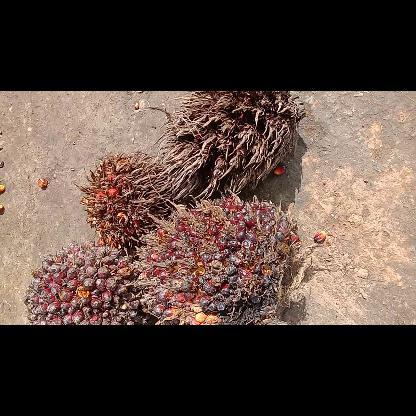Janjang kosong: (151, 91, 308, 201)
Kurang masak: (22, 238, 140, 324)
TBS masak: (134, 191, 326, 324)
Terlalu masak: (73, 150, 173, 250)
